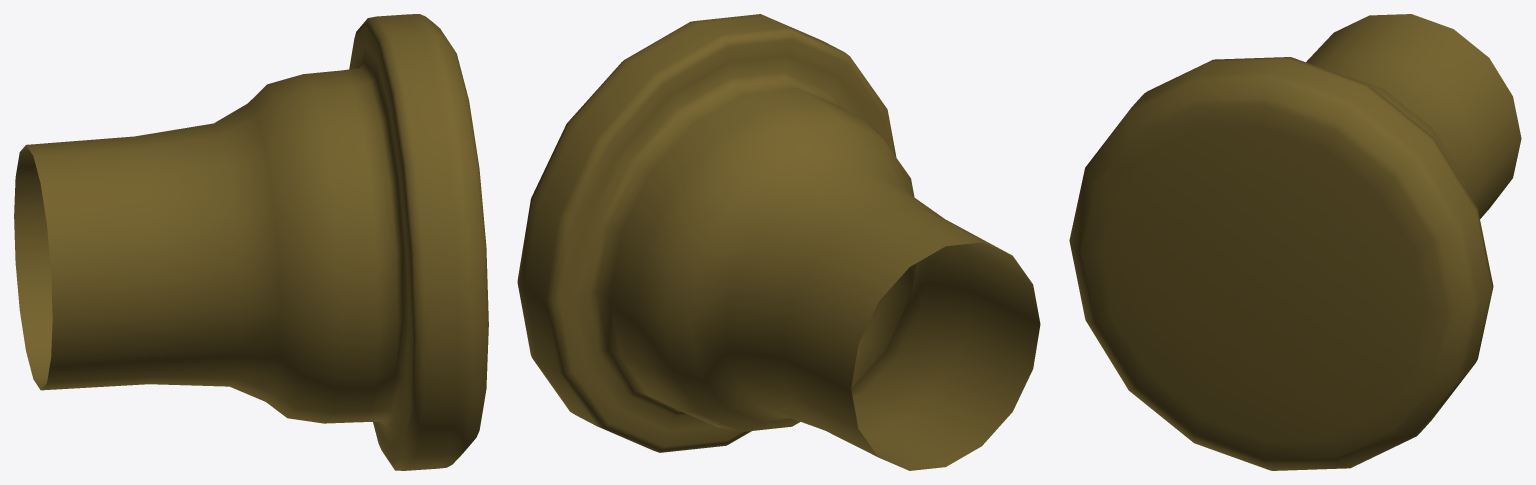
The model's file is Radio-Knob.obj.
3 views of the same model, side by side, from view 1: azimuth 30°, elevation 25°; view 2: azimuth 150°, elevation 25°; view 3: azimuth 270°, elevation 25° (orthographic). The views are drawn at different scales.
Parts seen in each view (by area): view 1: Radio-Knob_Cylinder.045; view 2: Radio-Knob_Cylinder.045; view 3: Radio-Knob_Cylinder.045.
Boxes of the visible parts, bbox=[...] form: Radio-Knob_Cylinder.045: bbox=[14, 14, 488, 470]; Radio-Knob_Cylinder.045: bbox=[517, 14, 1040, 470]; Radio-Knob_Cylinder.045: bbox=[1069, 14, 1521, 470].
Bounding box in the file's own units: 0.0305 × 0.0269 × 0.0278.
